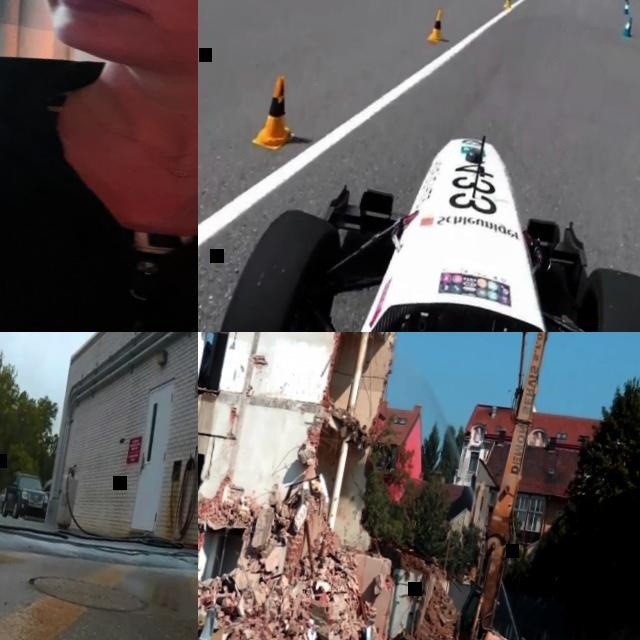NO-Mask: (26, 0, 198, 103)
NO-Safety Vest: (0, 70, 198, 332)
Person: (0, 0, 198, 332)
Safety Cone: (248, 69, 303, 157), (426, 3, 449, 44), (621, 13, 635, 39), (500, 0, 515, 11), (620, 0, 631, 14)
machinery: (277, 332, 627, 640)
vehicle: (202, 91, 640, 332), (0, 469, 51, 524), (40, 478, 52, 502), (0, 488, 4, 512)
